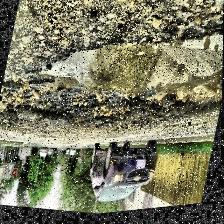pothole: (0, 0, 224, 156)
